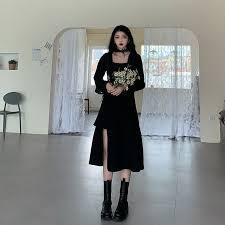dress: (90, 50, 147, 174)
